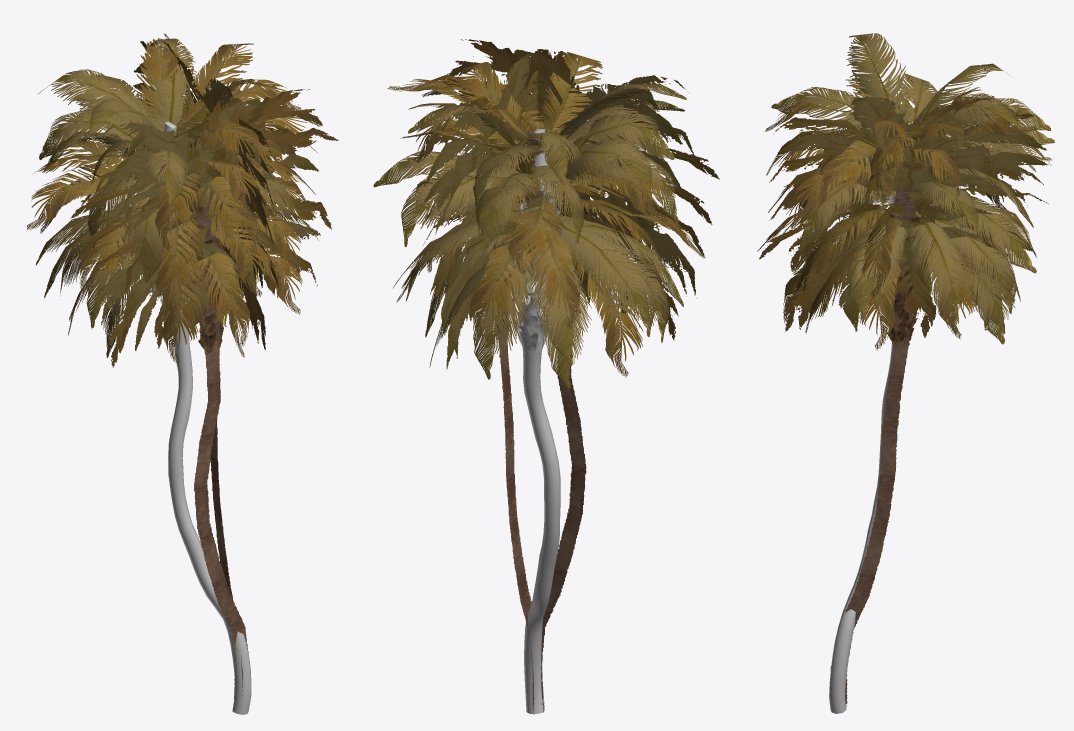
File: Palm3.fbx
3 views of the same model, side by side, from view 1: azimuth 30°, elevation 25°; view 2: azimuth 150°, elevation 25°; view 3: azimuth 270°, elevation 25° (orthographic). The views are drawn at different scales.
Visible parts, largest first — view 1: LOD0, Billboard; view 2: LOD0, Billboard; view 3: LOD0, Billboard.
Part boxes in pixels (box(x1,y1,x2,y2)): LOD0: box(27, 33, 320, 714); Billboard: box(70, 41, 338, 712); LOD0: box(373, 52, 705, 713); Billboard: box(423, 39, 719, 714); LOD0: box(757, 33, 1054, 713); Billboard: box(759, 97, 1050, 706).
Size of what is drawn, in the model's own units: 746 by 1583 by 712.
